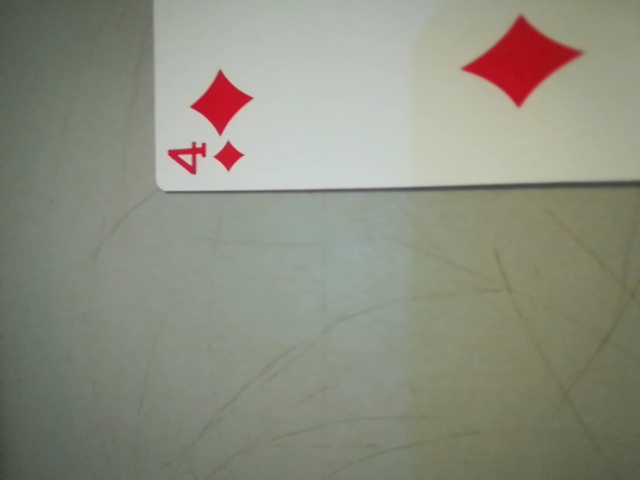fk 4: (162, 73, 262, 179)
